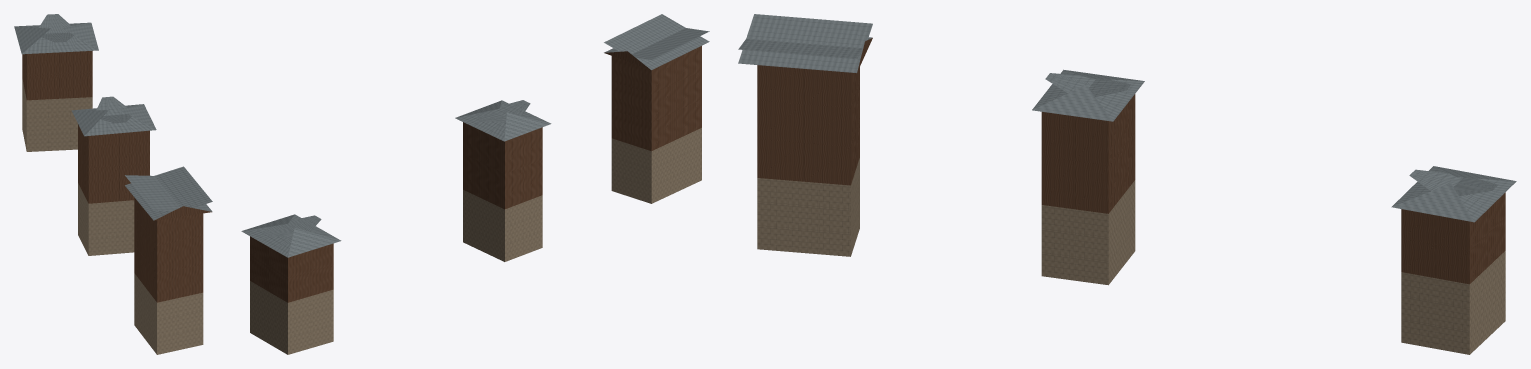
The model's file is bld_c-22_12_544.gltf.
The picture shows the model from 3 angles, left to right: view 1: azimuth 30°, elevation 25°; view 2: azimuth 150°, elevation 25°; view 3: azimuth 270°, elevation 25°; orthographic projection. The views are drawn at different scales.
Parts seen in each view (by area): view 1: bld_c-22_12_544; view 2: bld_c-22_12_544; view 3: bld_c-22_12_544.
Part boxes in pixels (box(x1,y1,x2,y2)): bld_c-22_12_544: box(14, 14, 212, 354); bld_c-22_12_544: box(241, 14, 709, 354); bld_c-22_12_544: box(738, 14, 1516, 354).
Size of the model in its own units: 20.58 by 15.1 by 50.43.
4 materials, 4 textured.
